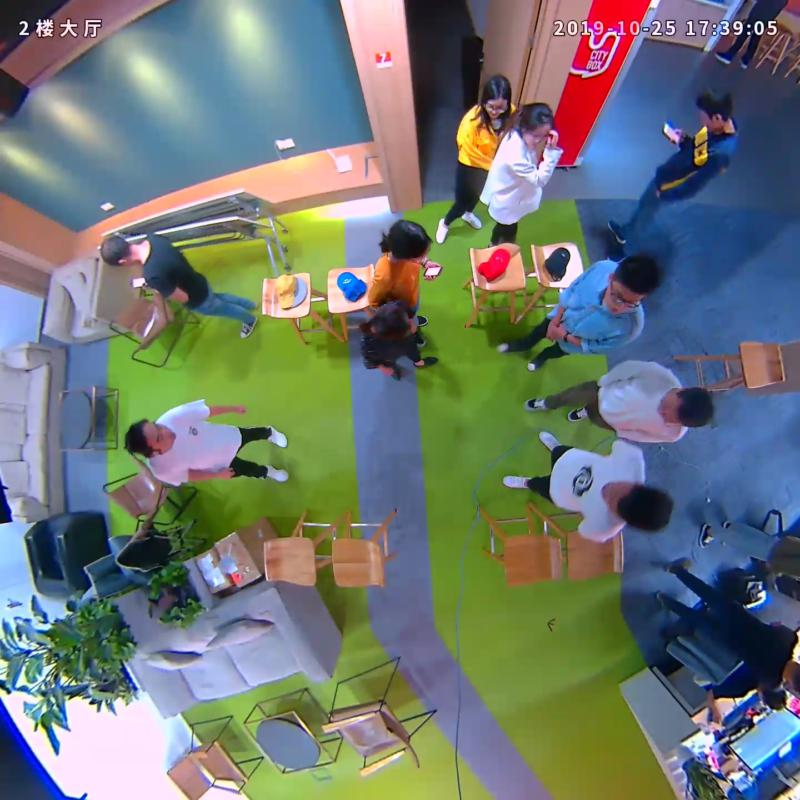head: (605, 481, 673, 533), (603, 255, 658, 313), (660, 385, 713, 428), (387, 218, 431, 266), (123, 417, 175, 457), (695, 86, 733, 132), (518, 101, 554, 147), (373, 301, 412, 341), (480, 75, 512, 119), (98, 234, 134, 268)
